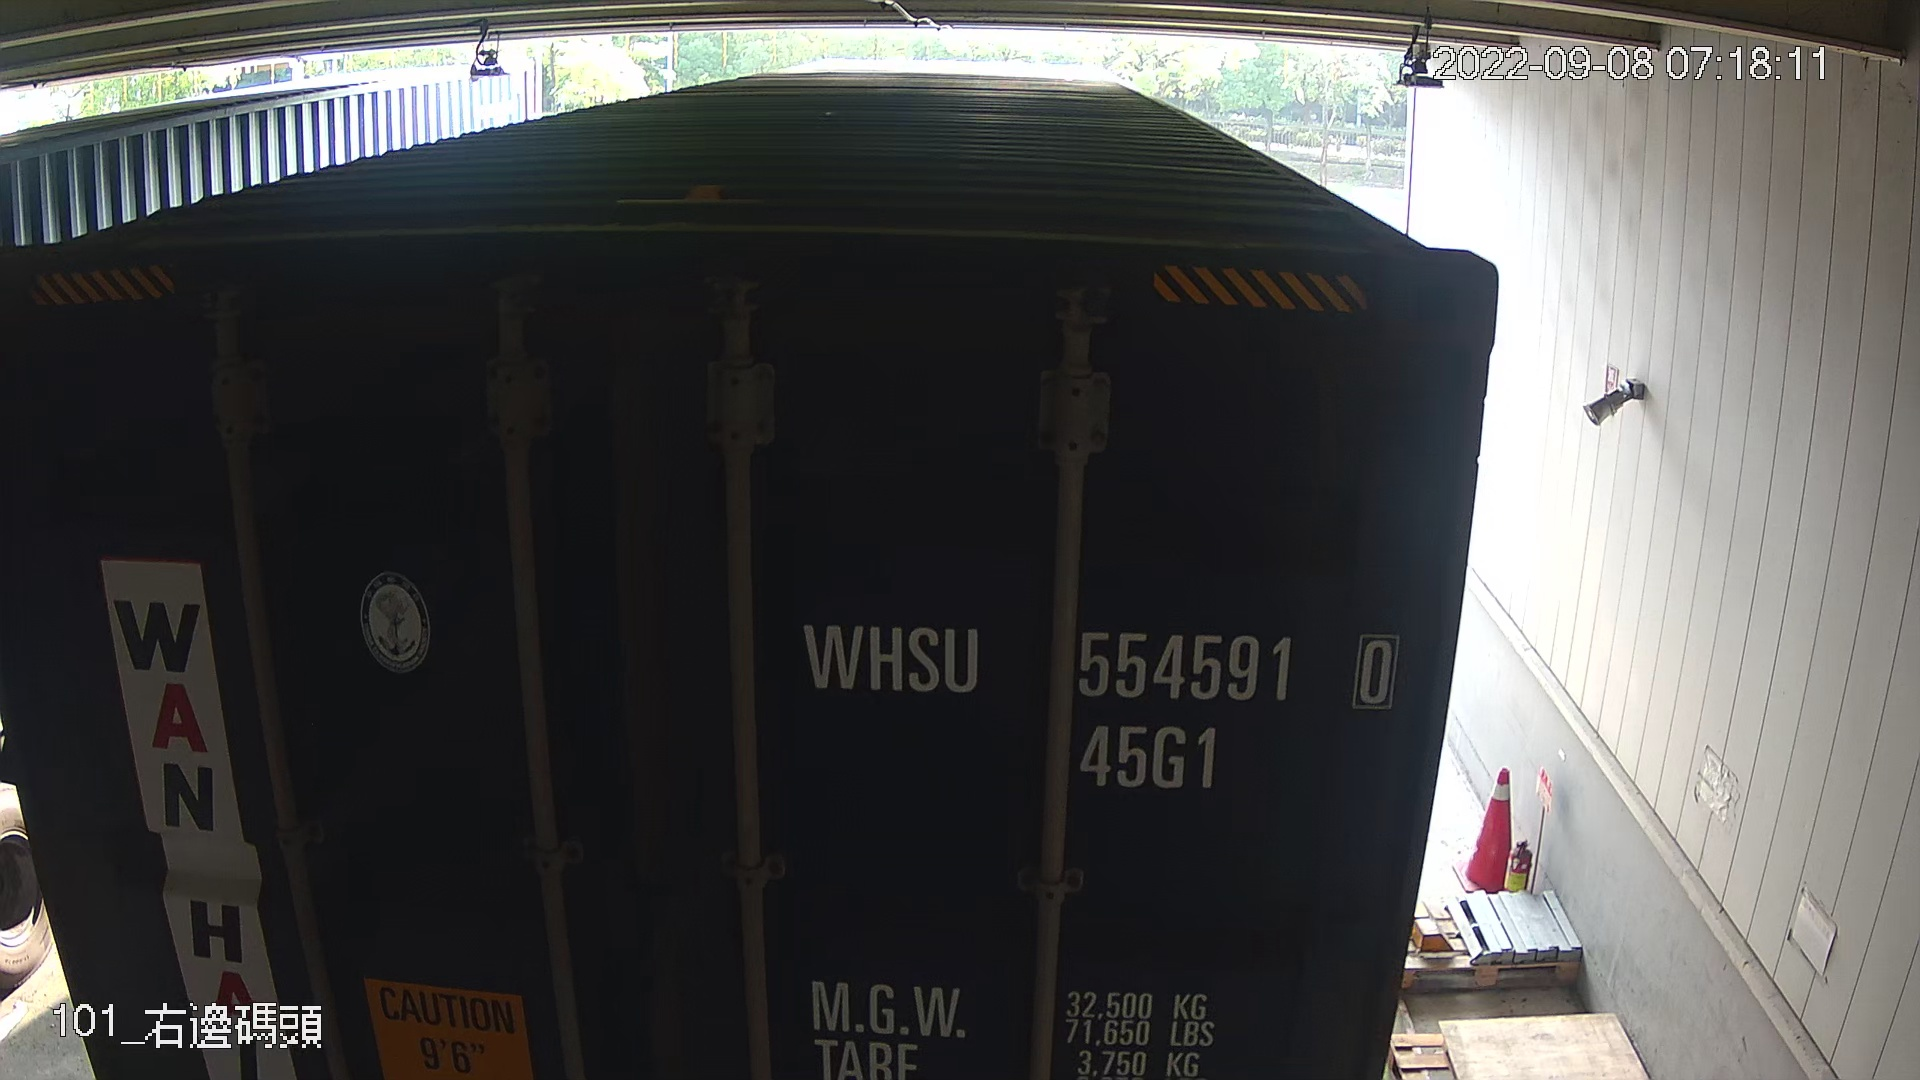container: (779, 603, 1410, 795)
